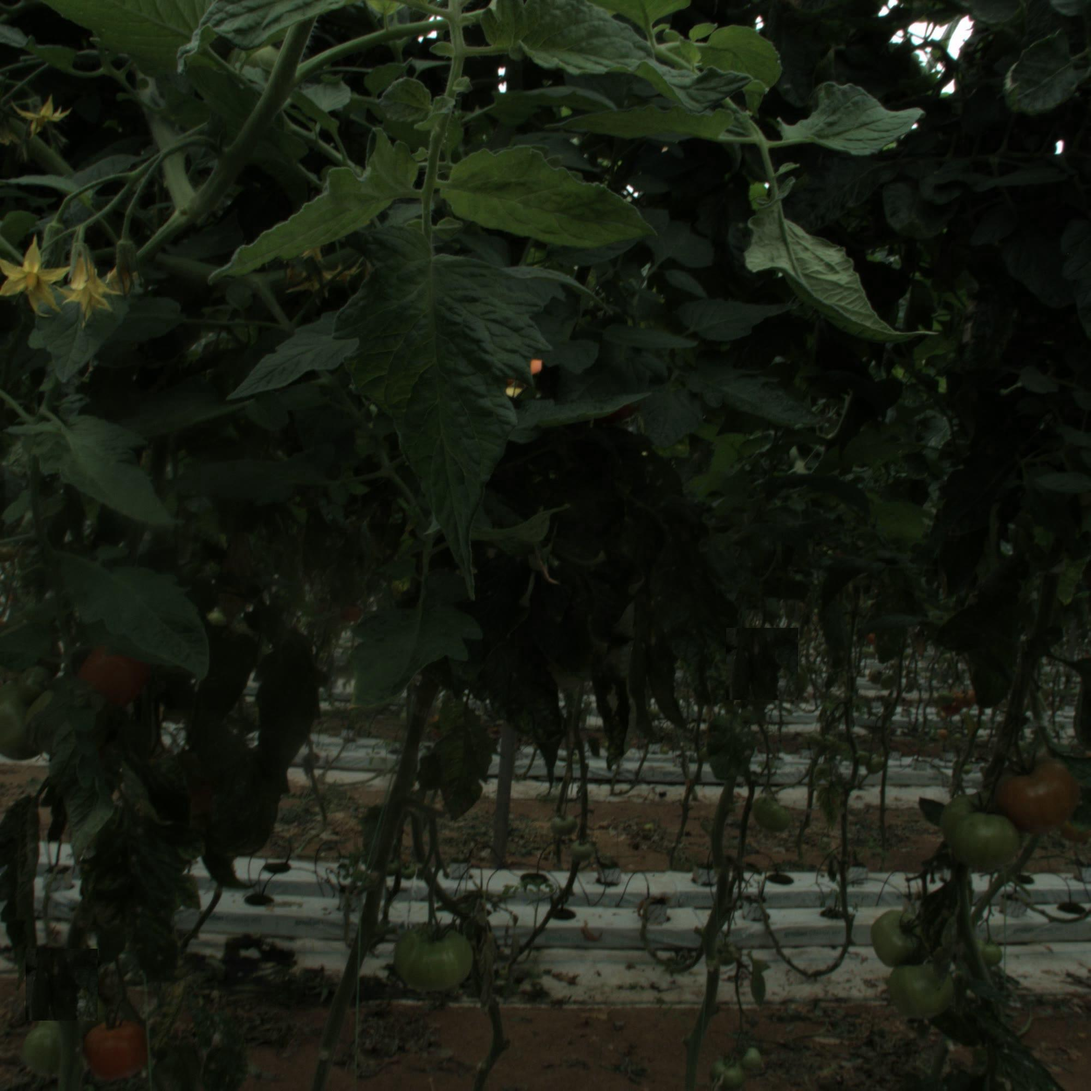['unripe', 'semi-ripe', 'fully-ripe']: (396, 921, 470, 995), (952, 806, 1018, 872), (890, 955, 955, 1020), (873, 912, 930, 968), (26, 1022, 82, 1078)
